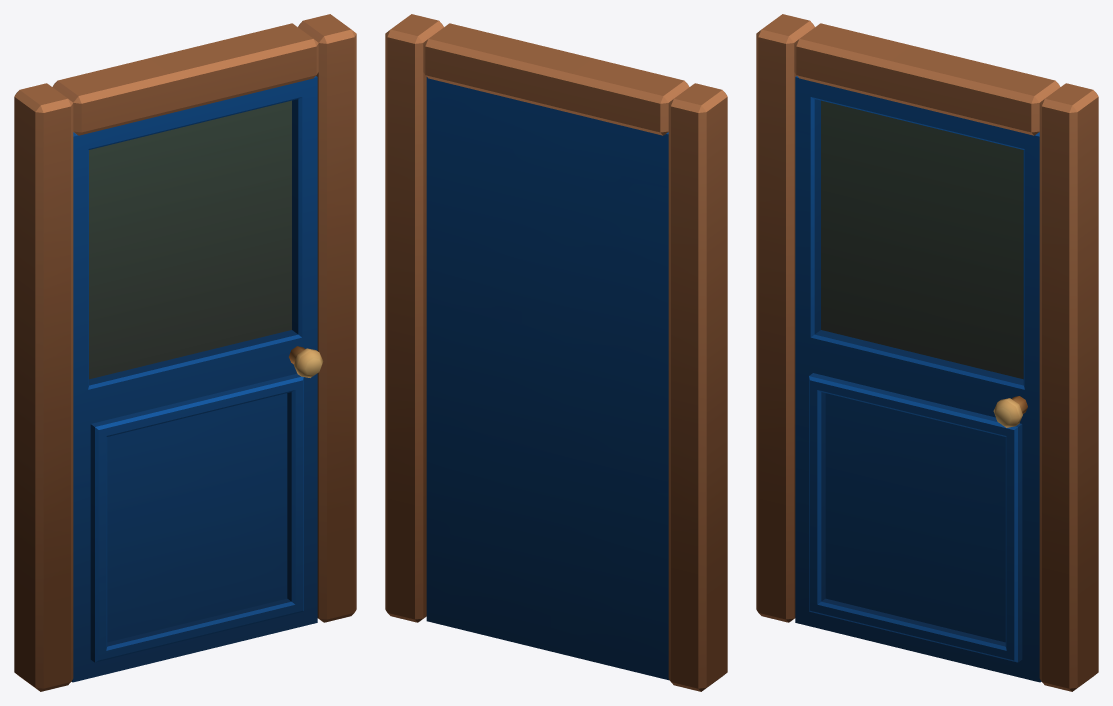
The model's file is sp_build_prop_door_02.fbx.
3 renders of one model, left to right at view 1: azimuth 30°, elevation 25°; view 2: azimuth 150°, elevation 25°; view 3: azimuth 330°, elevation 25°, orthographic.
Parts seen in each view (by area): view 1: build_prop_door_02; view 2: build_prop_door_02; view 3: build_prop_door_02.
Part boxes in pixels (x1,y1,x2,y2): build_prop_door_02: (14,14,356,691); build_prop_door_02: (385,14,727,691); build_prop_door_02: (756,14,1098,691).
Size of the model in its own units: 126 by 220 by 27.02.
